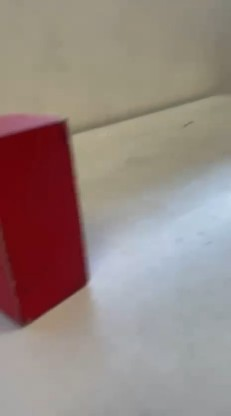red: (6, 108, 84, 322)
